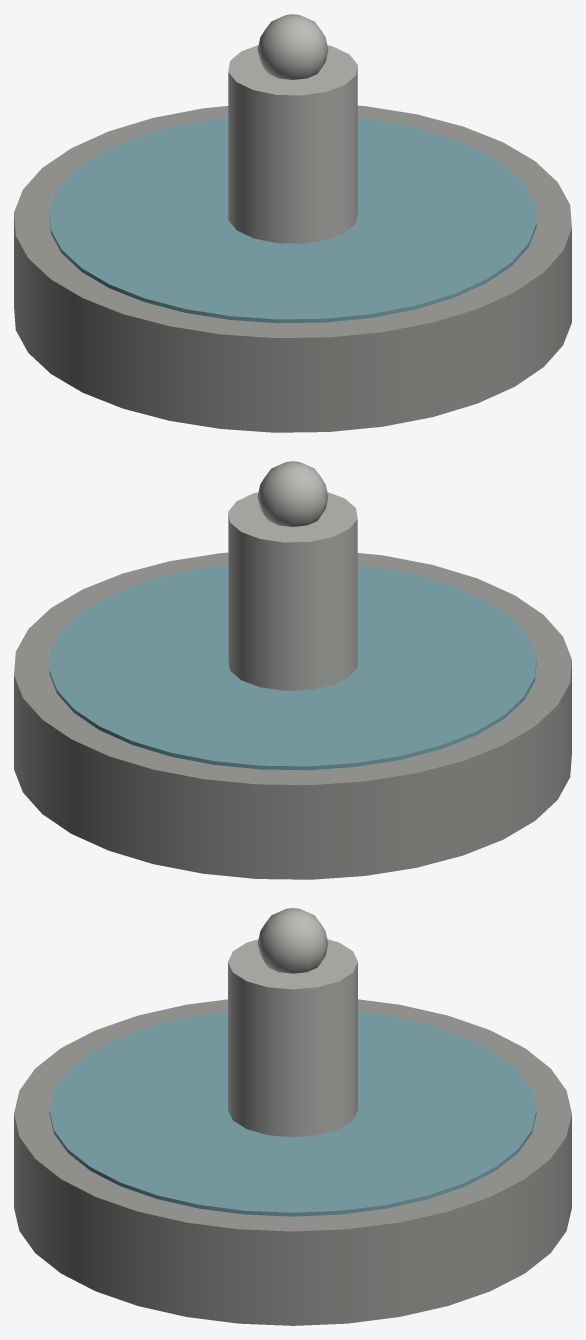
Rendered from mp_fountain_placeholder.glb.
The picture shows the model from 3 angles, top to bottom: view 1: azimuth 30°, elevation 25°; view 2: azimuth 150°, elevation 25°; view 3: azimuth 270°, elevation 25°; orthographic projection.
Visible parts, largest first — view 1: mp_fountain_placeholder; view 2: mp_fountain_placeholder; view 3: mp_fountain_placeholder.
Boxes of the visible parts, left/top/right/bottom form: mp_fountain_placeholder: left=14, top=14, right=571, bottom=432; mp_fountain_placeholder: left=14, top=461, right=571, bottom=879; mp_fountain_placeholder: left=14, top=908, right=571, bottom=1325.
Bounding box in the file's own units: 3 × 1.76 × 3.
